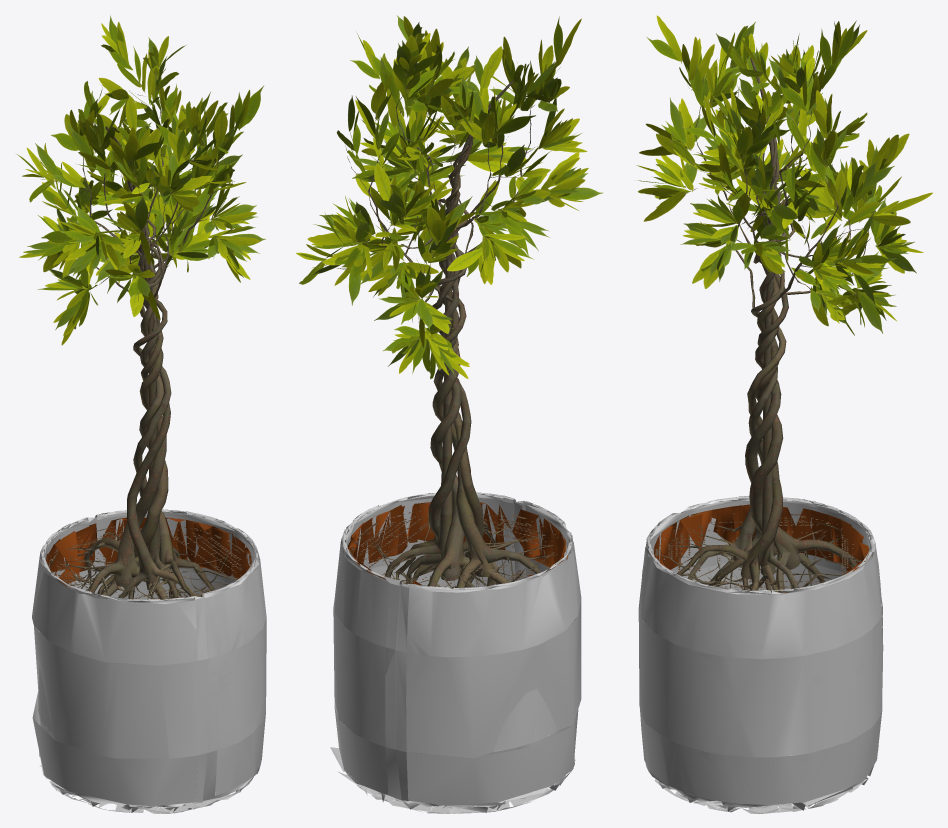
File: ficus.glb
3 renders of one model, left to right at view 1: azimuth 30°, elevation 25°; view 2: azimuth 150°, elevation 25°; view 3: azimuth 270°, elevation 25°, orthographic. The views are drawn at different scales.
Parts seen in each view (by area): view 1: CY_low_CY_0, Leaves_leavs_Mat_0, Branches_b_Mat_0, CY2_low_CY2_0, GR_low_GR_0; view 2: CY_low_CY_0, Leaves_leavs_Mat_0, Branches_b_Mat_0, CY2_low_CY2_0, GR_low_GR_0; view 3: CY_low_CY_0, Leaves_leavs_Mat_0, Branches_b_Mat_0, CY2_low_CY2_0, GR_low_GR_0.
Part boxes in pixels (box(x1,y1,x2,y2)): CY_low_CY_0: box(32, 509, 266, 813); Leaves_leavs_Mat_0: box(16, 15, 265, 345); Branches_b_Mat_0: box(41, 92, 242, 600); CY2_low_CY2_0: box(46, 517, 251, 589); GR_low_GR_0: box(47, 524, 251, 599); CY_low_CY_0: box(330, 492, 581, 813); Leaves_leavs_Mat_0: box(296, 15, 603, 379); Branches_b_Mat_0: box(337, 80, 558, 588); CY2_low_CY2_0: box(347, 502, 567, 585); GR_low_GR_0: box(350, 509, 558, 588); CY_low_CY_0: box(638, 496, 883, 813); Leaves_leavs_Mat_0: box(636, 15, 932, 335); Branches_b_Mat_0: box(658, 57, 892, 593); CY2_low_CY2_0: box(653, 504, 868, 592); GR_low_GR_0: box(655, 513, 866, 594).
Size of the model in its own units: 0.4975 by 1.5 by 0.5412.
5 materials, 5 textured.
